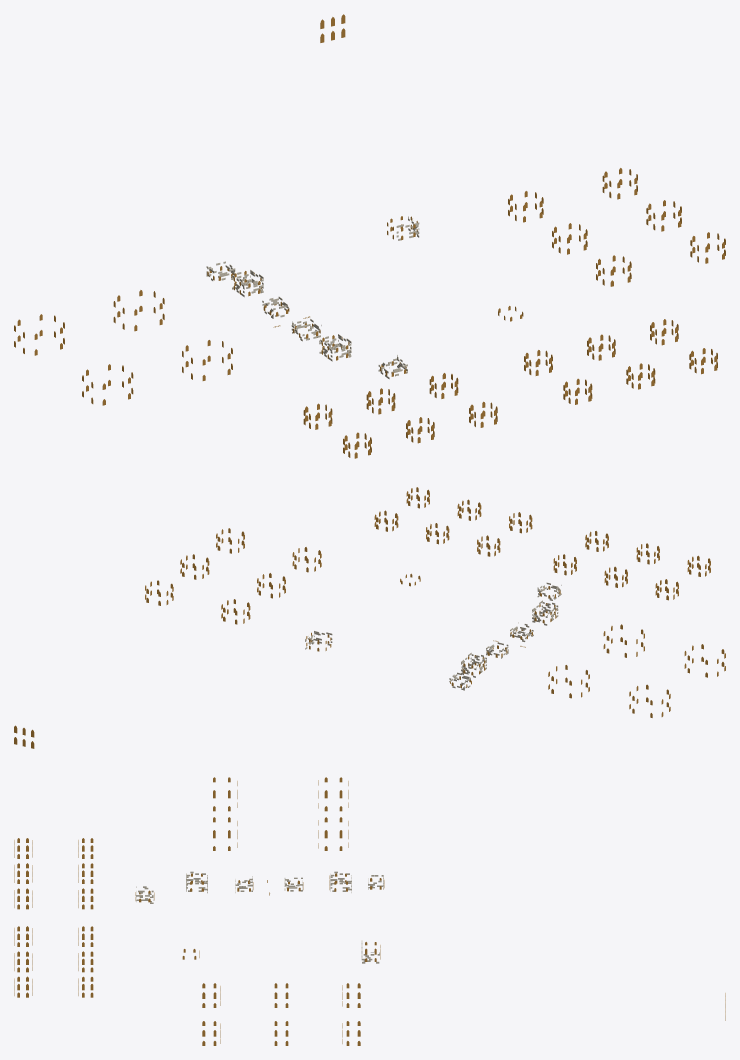
Rendered from Neris-09.glb.
The picture shows the model from 3 angles, top to bottom: view 1: azimuth 30°, elevation 25°; view 2: azimuth 150°, elevation 25°; view 3: azimuth 270°, elevation 25°; orthographic projection. The views are drawn at different scales.
Parts seen in each view (by area): view 1: Amber Window Glass, Limestone Block Tone 3; view 2: Amber Window Glass, Limestone Block Tone 3; view 3: Amber Window Glass, Limestone Block Tone 3.
Boxes of the visible parts, box(x1,y1,x2,y2) form: Amber Window Glass: box(14, 14, 725, 458); Limestone Block Tone 3: box(206, 216, 419, 379); Amber Window Glass: box(14, 487, 725, 748); Limestone Block Tone 3: box(305, 582, 561, 690); Amber Window Glass: box(14, 777, 725, 1045); Limestone Block Tone 3: box(136, 871, 383, 963).
Bounding box in the file's own units: 239 × 9.27 × 287.
